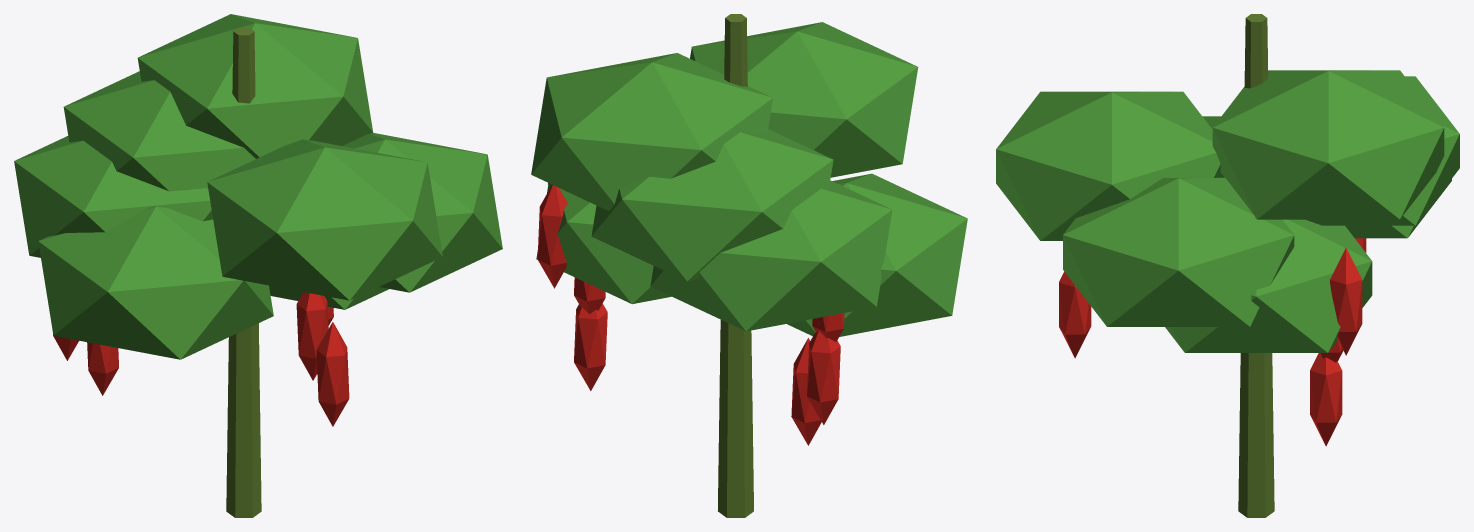
File: f03-tanaman-3.glb
3 views of the same model, side by side, from view 1: azimuth 30°, elevation 25°; view 2: azimuth 150°, elevation 25°; view 3: azimuth 270°, elevation 25° (orthographic). The views are drawn at different scales.
Parts seen in each view (by area): view 1: EX_kebun:daun.001, EX_kebun:batang.002, EX_kebun:cabai; view 2: EX_kebun:daun.001, EX_kebun:cabai, EX_kebun:batang.002; view 3: EX_kebun:daun.001, EX_kebun:batang.002, EX_kebun:cabai.
Part boxes in pixels (x1=…): EX_kebun:daun.001: x1=14, y1=14, x2=502, y2=359; EX_kebun:batang.002: x1=226, y1=27, x2=261, y2=517; EX_kebun:cabai: x1=53, y1=292, x2=349, y2=426; EX_kebun:daun.001: x1=531, y1=22, x2=967, y2=336; EX_kebun:cabai: x1=537, y1=184, x2=844, y2=445; EX_kebun:batang.002: x1=718, y1=14, x2=753, y2=517; EX_kebun:daun.001: x1=996, y1=70, x2=1459, y2=352; EX_kebun:batang.002: x1=1238, y1=14, x2=1274, y2=517; EX_kebun:cabai: x1=1059, y1=238, x2=1366, y2=446.
Bounding box in the file's own units: 0.5314 × 0.6 × 0.5111.
